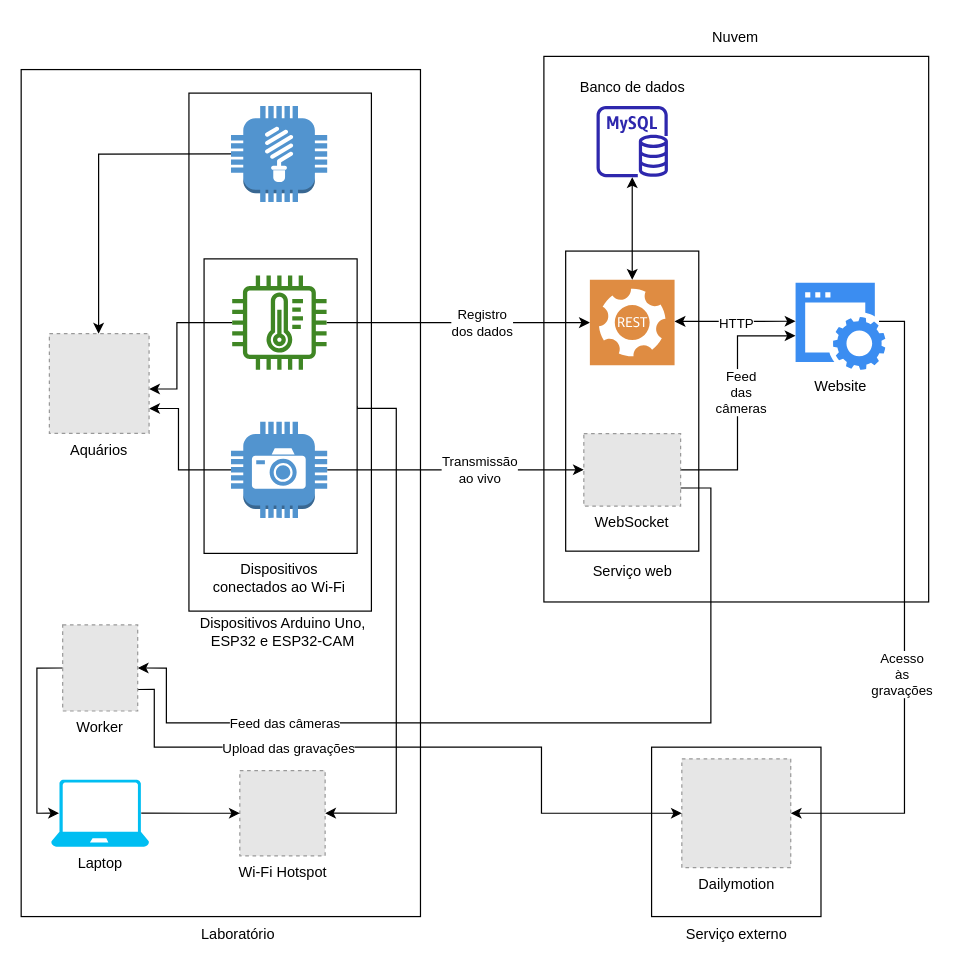
This 953x974 diagram has some shape labels left out. Grey dashed boxes stand in for pictures. The centre of each missing label's shape, as x and y in pixels:
API REST: (x=631, y=322)
Câmeras: (x=278, y=469)
Sensores de temperatura e pH: (x=279, y=322)
Sensores e controladores de luminosidade: (x=278, y=153)
